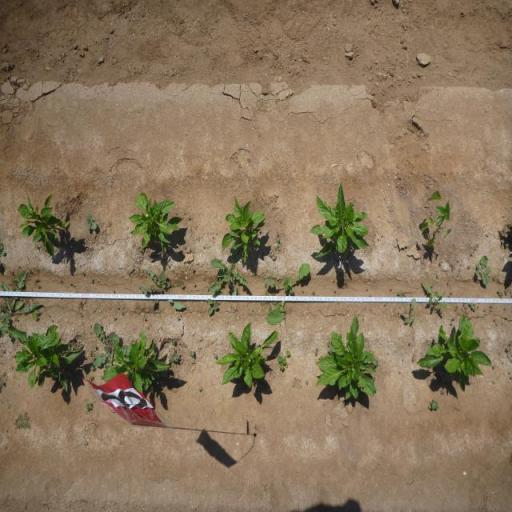plant: (9, 324, 83, 394), (309, 179, 370, 262), (416, 313, 492, 379), (319, 312, 375, 400), (220, 322, 278, 392), (18, 188, 72, 262), (128, 192, 181, 256), (118, 336, 168, 394), (222, 195, 266, 258), (418, 186, 453, 250)
weed: (266, 261, 311, 326), (0, 271, 44, 328), (208, 258, 249, 296), (140, 268, 174, 310), (92, 319, 118, 367), (422, 280, 448, 312), (474, 254, 492, 286), (258, 289, 280, 311), (14, 409, 32, 431), (402, 298, 416, 324), (278, 349, 291, 370), (206, 298, 220, 316), (86, 213, 98, 231), (274, 232, 282, 252), (428, 398, 440, 411), (292, 375, 302, 390), (173, 301, 187, 311), (137, 269, 148, 281), (172, 350, 181, 364), (500, 237, 510, 249), (32, 308, 39, 322), (84, 402, 93, 412), (397, 290, 407, 298), (469, 302, 477, 312), (504, 343, 512, 353), (190, 350, 196, 360), (497, 289, 503, 298), (89, 365, 96, 372), (88, 374, 94, 382), (270, 252, 276, 260), (180, 283, 186, 290), (440, 389, 446, 396), (213, 352, 218, 360), (314, 348, 318, 357), (504, 289, 510, 295), (172, 338, 176, 346), (198, 386, 203, 392), (143, 316, 147, 321), (305, 380, 309, 385), (493, 364, 496, 370), (120, 310, 123, 314)
